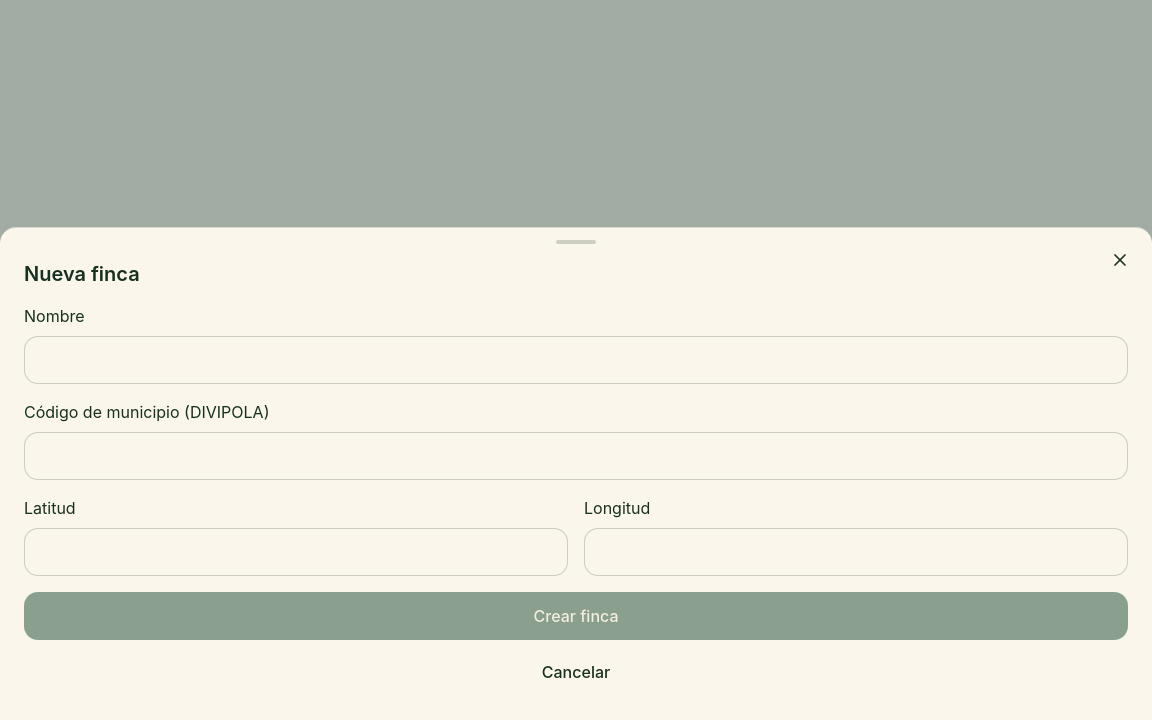
Test: CreateFarmSheet › shows the 422 detail on the form and keeps the sheet open
The image size is (1152, 720).
Type "Finca La Esperanza" into the field labelled "Nombre" at (576, 360), box [24, 336, 1128, 384]
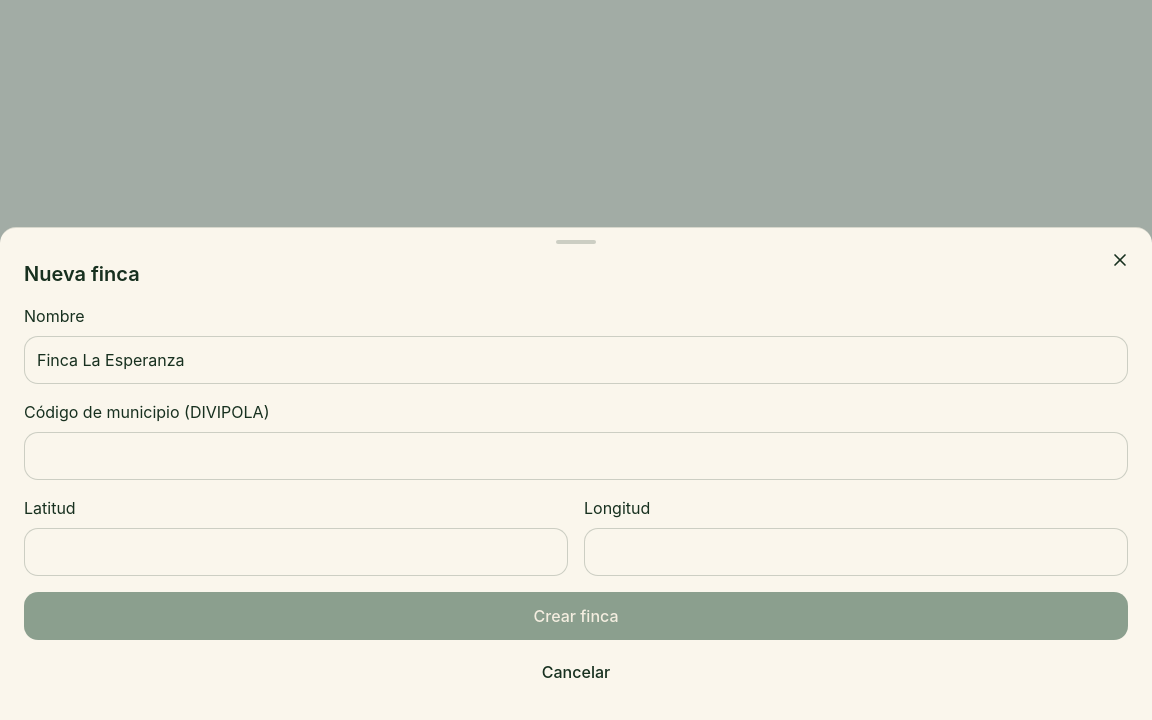
Type "20001" into the field labelled "Código de municipio (DIVIPOLA)" at (576, 456), box [24, 432, 1128, 480]
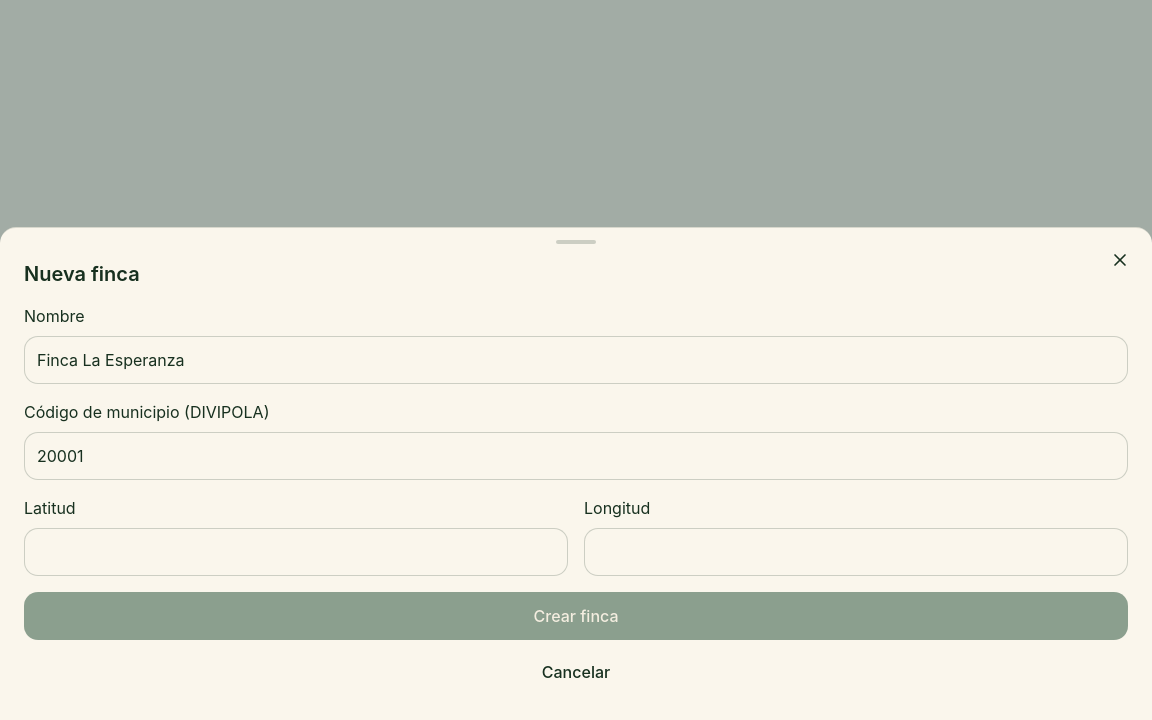
Type "10.46" into the number field labelled "Latitud" at (296, 552), box [24, 528, 568, 576]
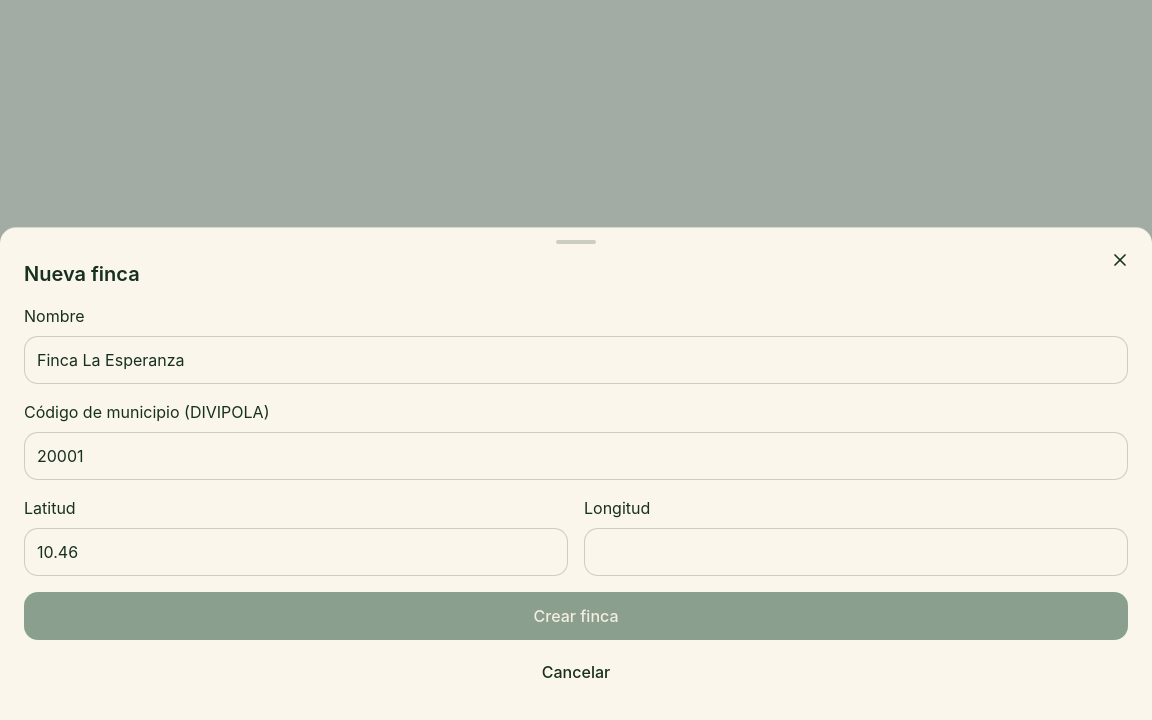
Type "-73.25" into the number field labelled "Longitud" at (856, 552), box [584, 528, 1128, 576]
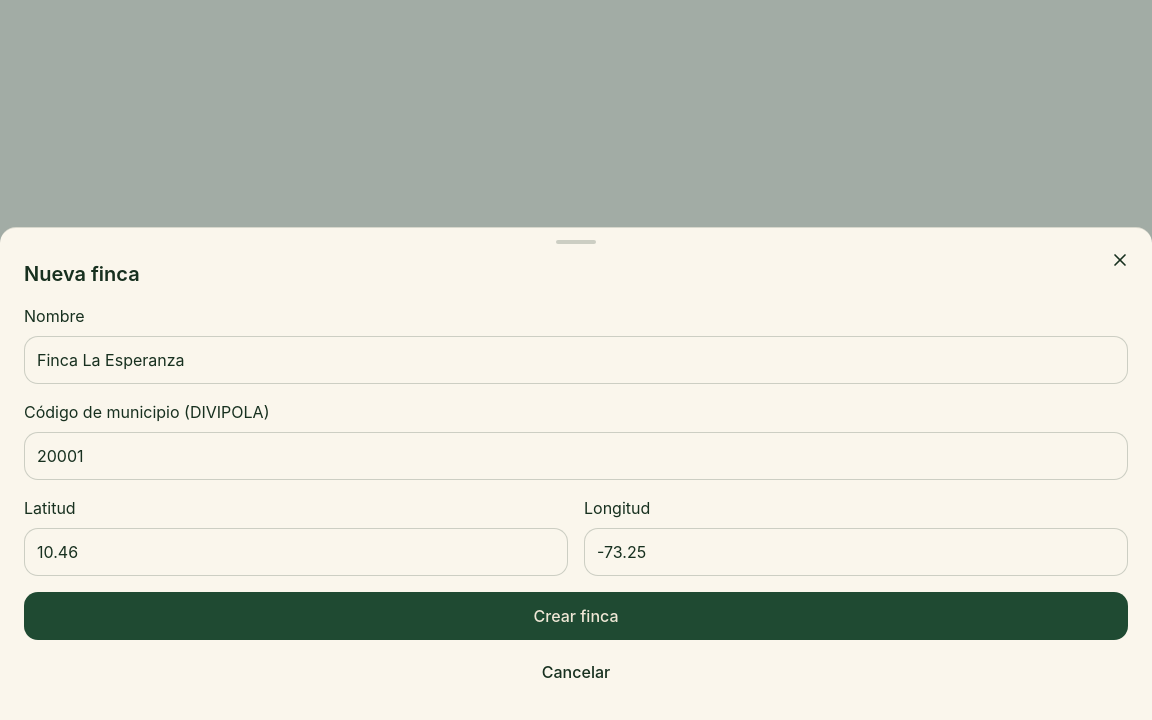
Click the button "Crear finca" at (576, 616), box [24, 592, 1128, 640]
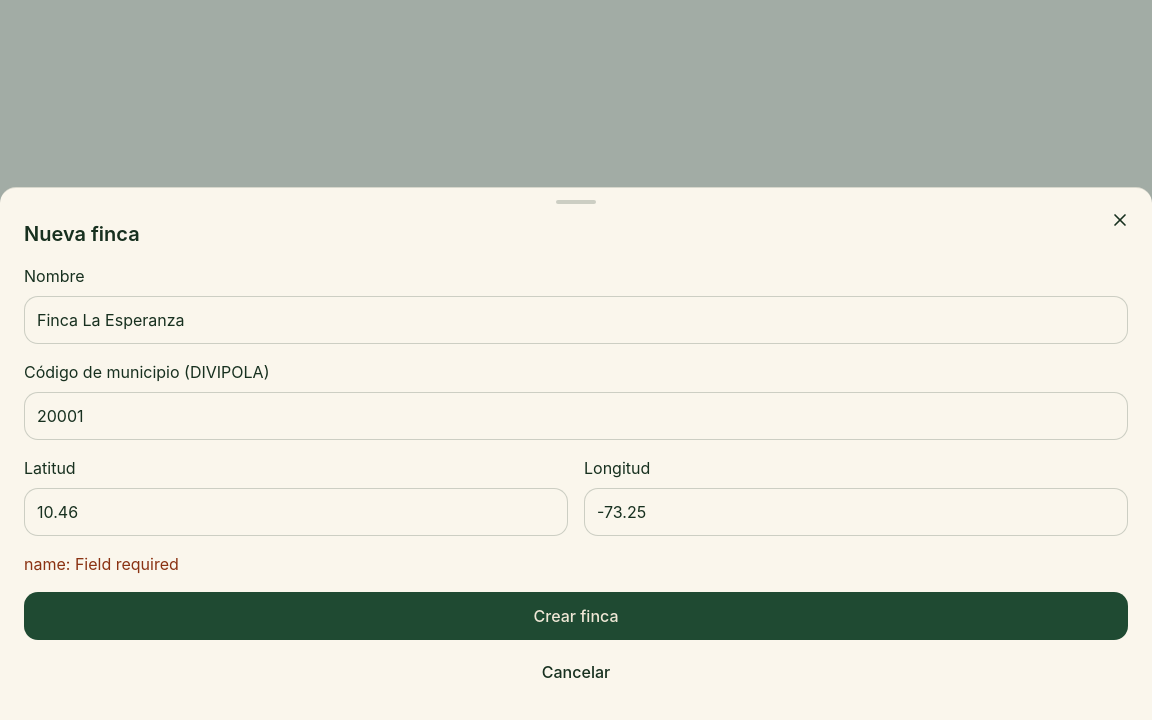
Now the text "name: Field required" is shown, box [24, 554, 179, 574]
